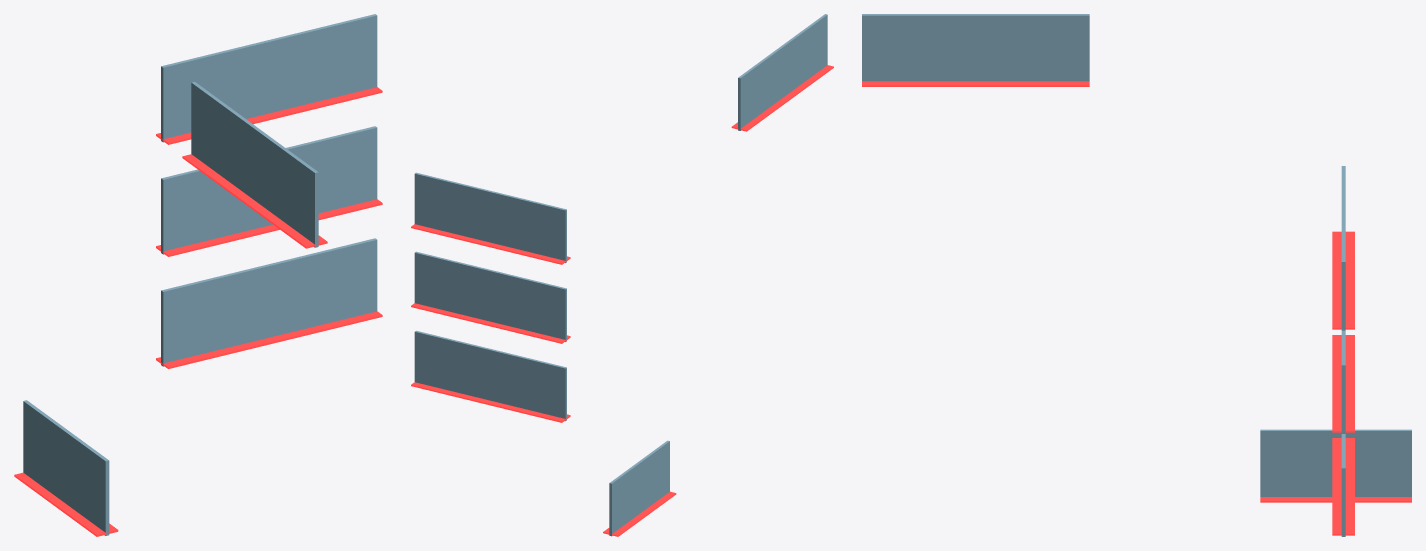
The model's file is GlassPartition_Break.fbx.
The picture shows the model from 3 angles, left to right: view 1: azimuth 30°, elevation 25°; view 2: azimuth 150°, elevation 25°; view 3: azimuth 270°, elevation 25°; orthographic projection. The views are drawn at different scales.
Parts seen in each view (by area): view 1: F2_Glass_Glass, F4_Glass_Glass, F3_Glass_Glass, F5_Glass_Glass, F1_Glass_Glass, F2_Glass_Glow, F5_Glass_Glow, F3_Glass_Glow, F4_Glass_Glow, F1_Glass_Glow; view 2: F4_Glass_Glass, F2_Glass_Glass, F3_Glass_Glass, F5_Glass_Glass, F1_Glass_Glass, F4_Glass_Glow, F2_Glass_Glow, F3_Glass_Glow, F5_Glass_Glow, F1_Glass_Glow; view 3: F5_Glass_Glass, F1_Glass_Glass, F4_Glass_Glow, F3_Glass_Glow, F2_Glass_Glow, F5_Glass_Glow, F4_Glass_Glass, F1_Glass_Glow.
Boxes of the visible parts, x1,y1,x2,y2 form: F2_Glass_Glass: [161, 238, 377, 366]; F4_Glass_Glass: [161, 14, 377, 142]; F3_Glass_Glass: [161, 126, 377, 254]; F5_Glass_Glass: [191, 82, 318, 247]; F1_Glass_Glass: [23, 400, 109, 535]; F2_Glass_Glow: [156, 311, 382, 368]; F5_Glass_Glow: [182, 154, 327, 248]; F3_Glass_Glow: [156, 199, 382, 256]; F4_Glass_Glow: [156, 87, 382, 144]; F1_Glass_Glow: [14, 472, 118, 536]; F4_Glass_Glass: [414, 172, 566, 262]; F2_Glass_Glass: [414, 330, 566, 420]; F3_Glass_Glass: [414, 251, 566, 341]; F5_Glass_Glass: [738, 14, 827, 130]; F1_Glass_Glass: [609, 440, 669, 536]; F4_Glass_Glow: [411, 224, 570, 264]; F2_Glass_Glow: [411, 382, 570, 422]; F3_Glass_Glow: [411, 303, 570, 343]; F5_Glass_Glow: [731, 65, 833, 131]; F1_Glass_Glow: [603, 491, 676, 536]; F5_Glass_Glass: [862, 14, 1089, 81]; F1_Glass_Glass: [1260, 429, 1411, 496]; F4_Glass_Glow: [1332, 231, 1354, 329]; F3_Glass_Glow: [1332, 335, 1354, 432]; F2_Glass_Glow: [1332, 438, 1354, 535]; F5_Glass_Glow: [862, 81, 1089, 86]; F4_Glass_Glass: [1341, 166, 1345, 330]; F1_Glass_Glow: [1260, 497, 1411, 502].
Bounding box in the file's own units: 9.3 × 14 × 14.5.
